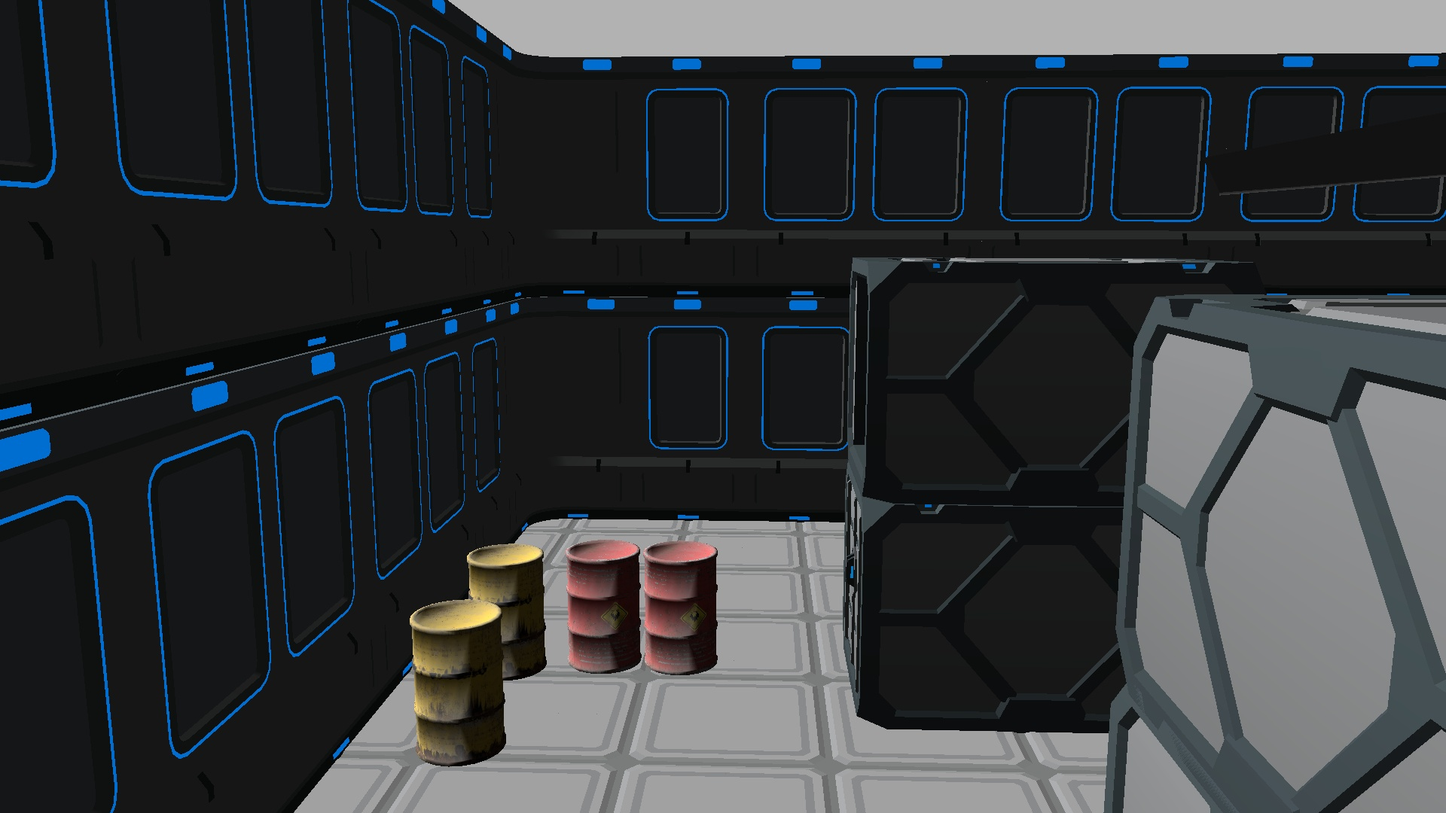toxic barrel: (410, 600, 506, 767), (466, 544, 548, 680), (565, 540, 642, 673), (644, 540, 718, 676)
